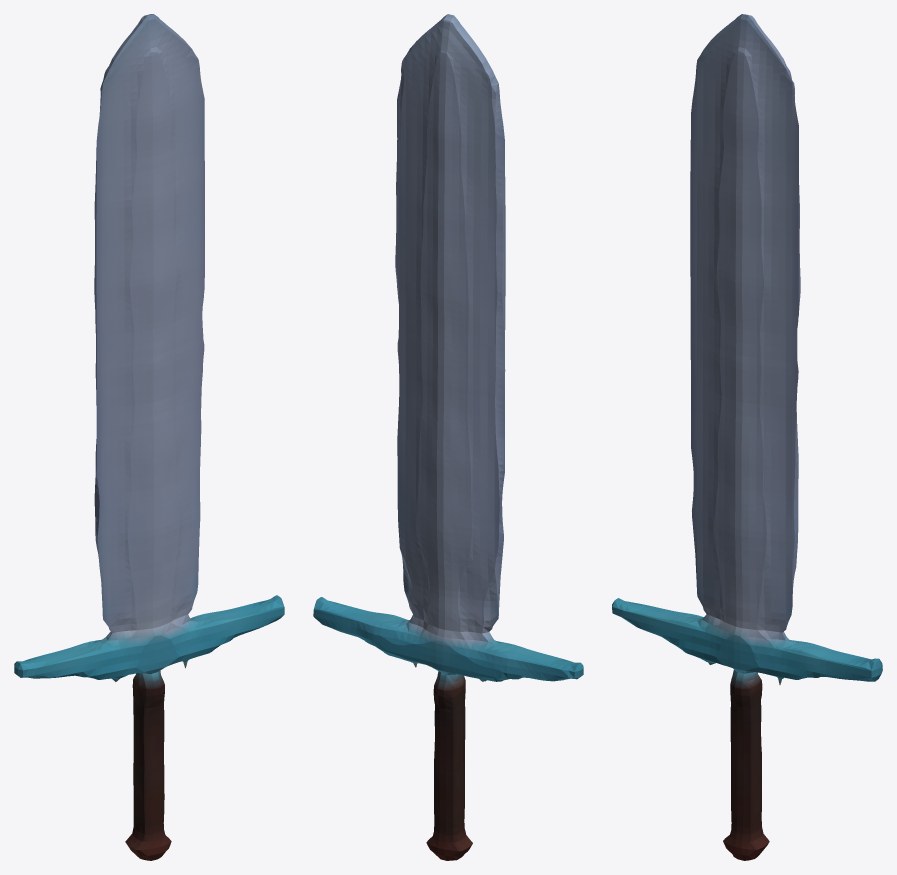
The model's file is sword_1.glb.
The picture shows the model from 3 angles, left to right: view 1: azimuth 30°, elevation 25°; view 2: azimuth 150°, elevation 25°; view 3: azimuth 330°, elevation 25°; orthographic projection.
Visible parts, largest first — view 1: tmp8fvhf3rj.ply; view 2: tmp8fvhf3rj.ply; view 3: tmp8fvhf3rj.ply.
Boxes of the visible parts, x1,y1,x2,y2 form: tmp8fvhf3rj.ply: [14, 14, 284, 860]; tmp8fvhf3rj.ply: [313, 14, 583, 860]; tmp8fvhf3rj.ply: [612, 14, 882, 860].
Size of the model in its own units: 0.65 by 1.97 by 0.0828.
